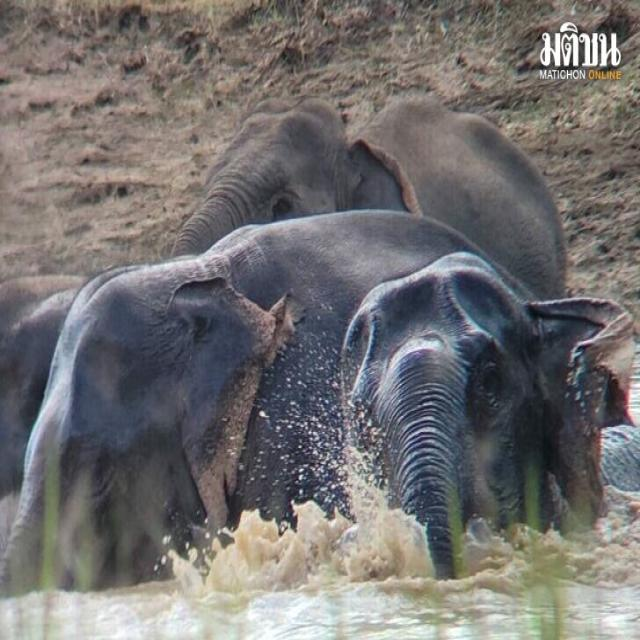Elephant: (11, 224, 606, 627), (332, 262, 635, 598), (140, 81, 572, 286)
